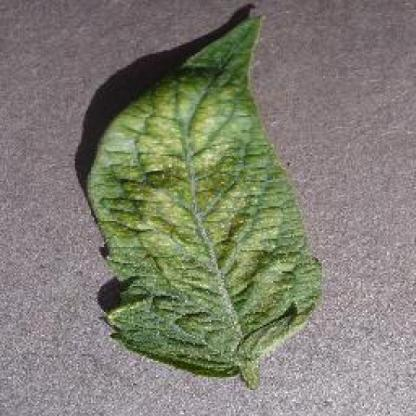Tomato_Spider_Mites: (87, 17, 321, 374)
